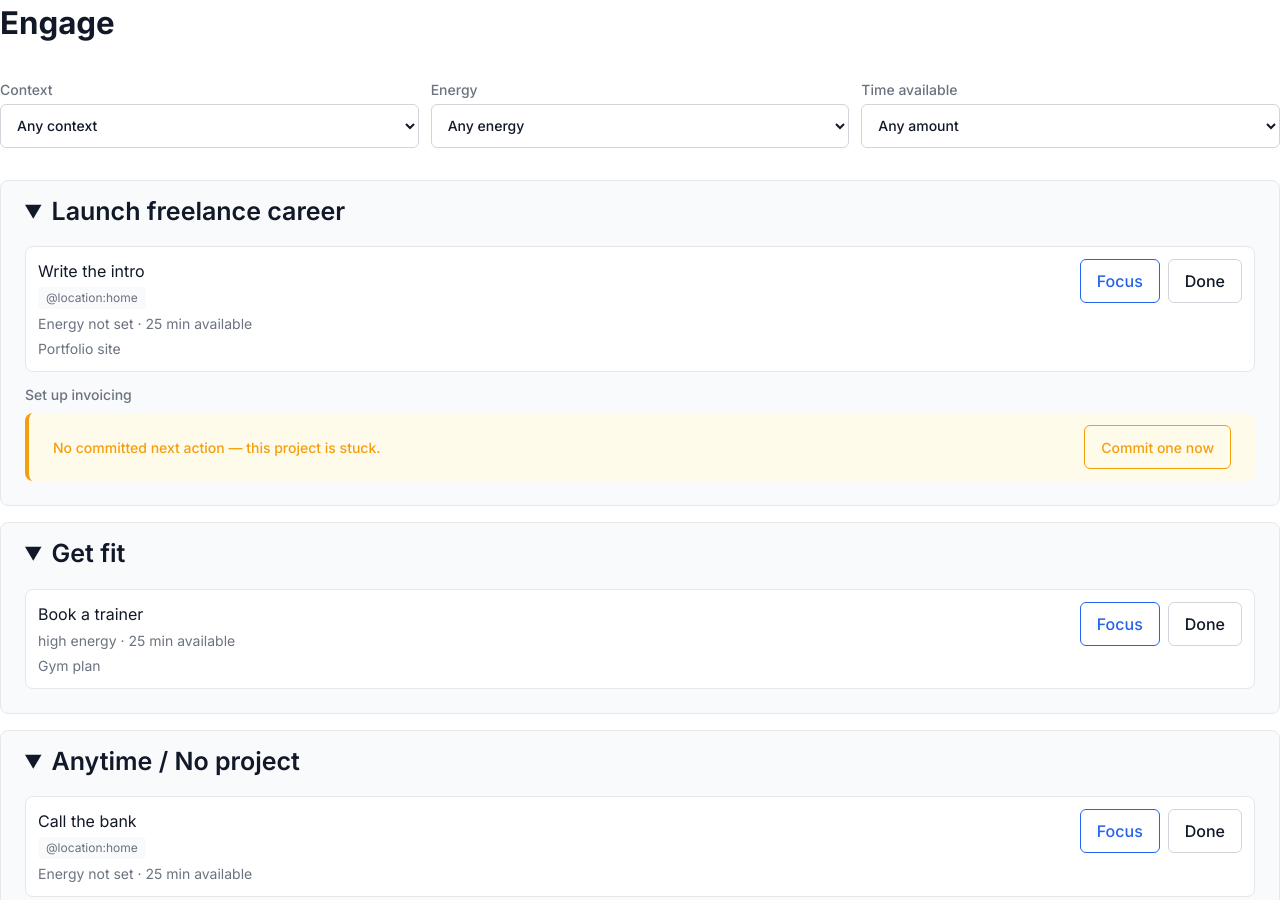
EngageBoard › Done on a project row PATCHes status=done and opens the next-action prompt
The image size is (1280, 900).
Click the button named "Mark \"Write the intro\" done".
click(1205, 281)  # box [1168,259,1242,303]
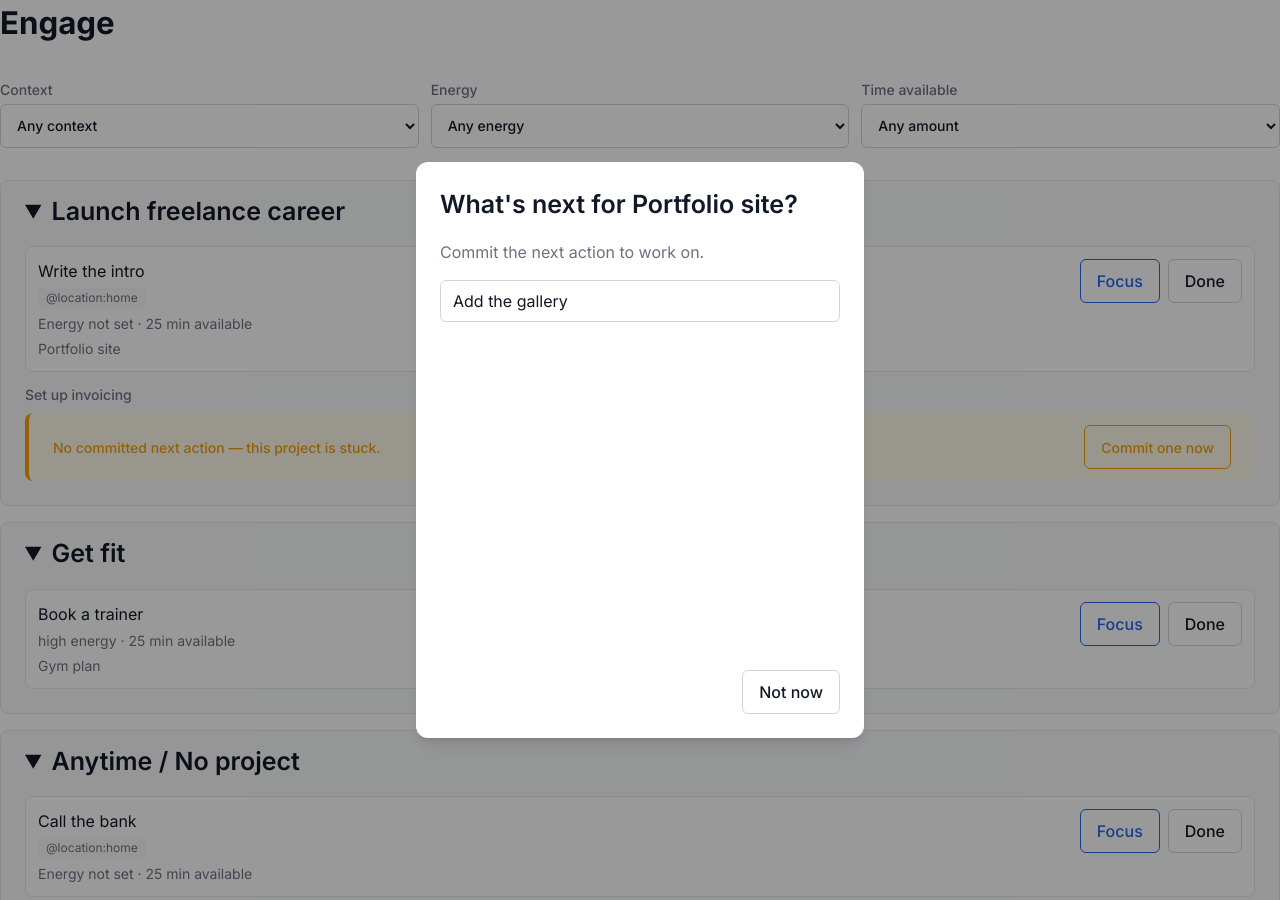
Check: the heading "What's next for Portfolio site?" is shown, box [440,186,840,224]
